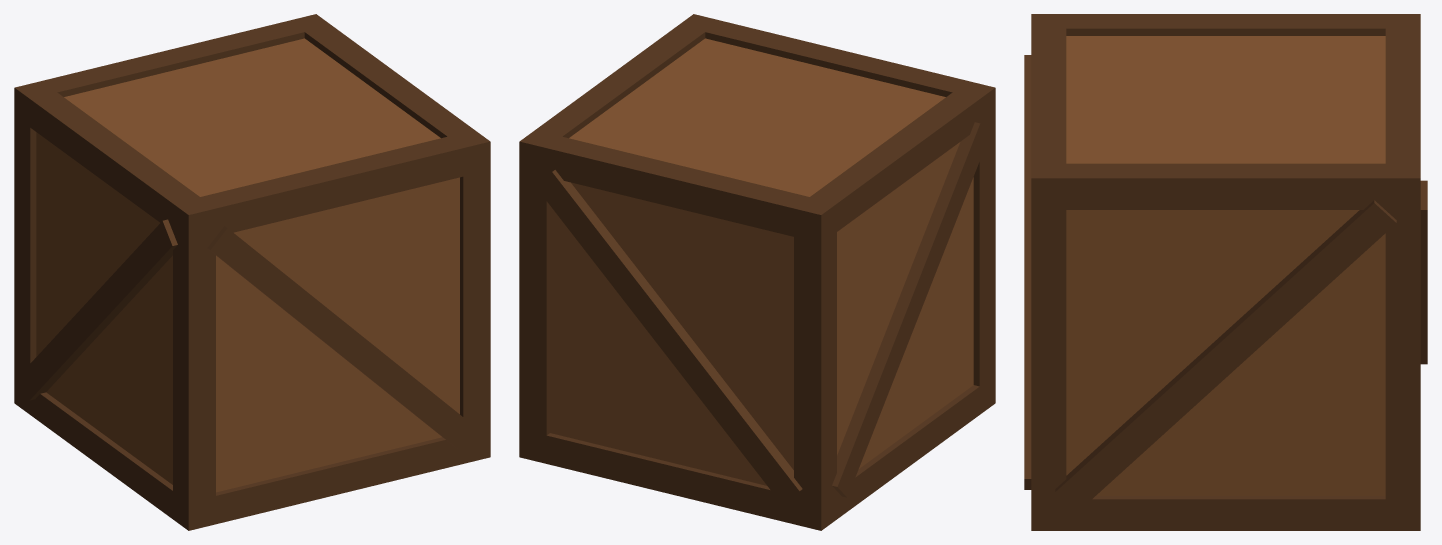
Rendered from Crate_Small.fbx.
3 views of the same model, side by side, from view 1: azimuth 30°, elevation 25°; view 2: azimuth 150°, elevation 25°; view 3: azimuth 270°, elevation 25° (orthographic). The views are drawn at different scales.
Visible parts, largest first — view 1: Crate_Small; view 2: Crate_Small; view 3: Crate_Small.
Boxes of the visible parts, box(x1,y1,x2,y2) form: Crate_Small: box(14, 14, 490, 530); Crate_Small: box(519, 14, 995, 530); Crate_Small: box(1024, 14, 1427, 530).
Bounding box in the file's own units: 0.57 × 0.55 × 0.57.
